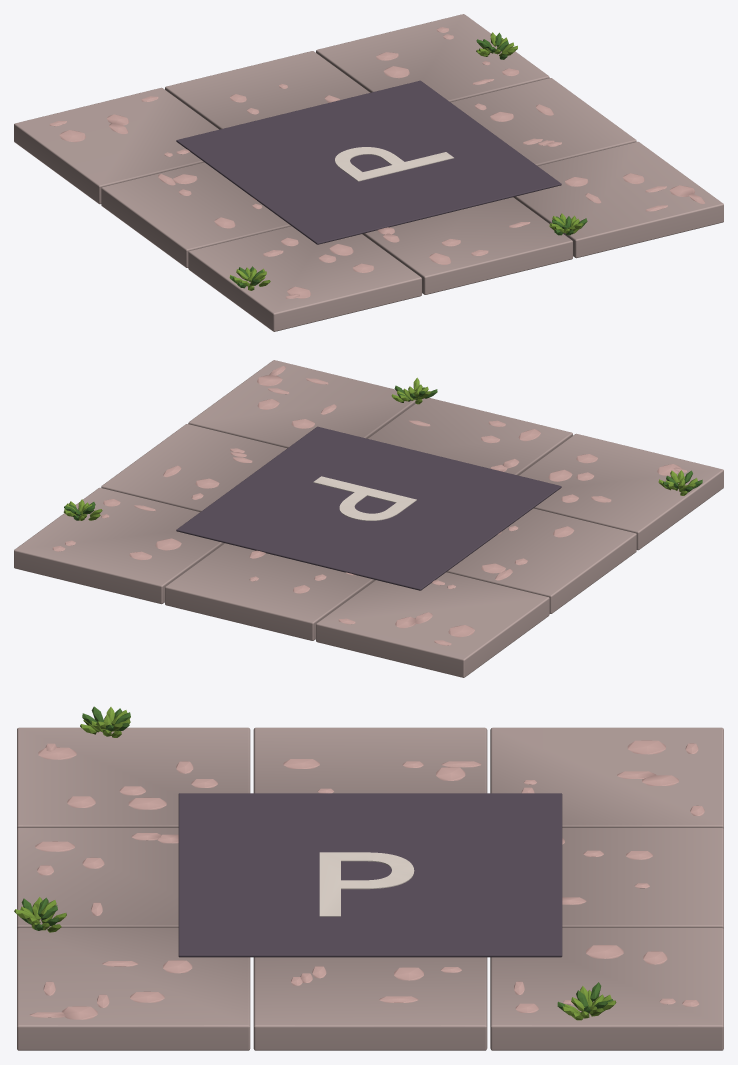
3 views of the same model, one above another, from view 1: azimuth 30°, elevation 25°; view 2: azimuth 150°, elevation 25°; view 3: azimuth 270°, elevation 25° (orthographic). The views are drawn at different scales.
Parts seen in each view (by area): view 1: root_pal_sidewalk, root_pal_asphalt, root_pal_pocketRose, root_pal_picketWhite, root_pal_foliage, root_pal_foliageDark; view 2: root_pal_sidewalk, root_pal_asphalt, root_pal_pocketRose, root_pal_picketWhite, root_pal_foliage, root_pal_foliageDark; view 3: root_pal_sidewalk, root_pal_asphalt, root_pal_pocketRose, root_pal_picketWhite, root_pal_foliage, root_pal_foliageDark.
Boxes of the visible parts, box(x1,y1,x2,y2) form: root_pal_sidewalk: box(14, 14, 723, 331); root_pal_asphalt: box(176, 80, 561, 244); root_pal_pocketRose: box(49, 27, 704, 298); root_pal_picketWhite: box(335, 147, 453, 181); root_pal_foliage: box(229, 32, 583, 290); root_pal_foliageDark: box(230, 32, 587, 288); root_pal_sidewalk: box(14, 360, 723, 677); root_pal_asphalt: box(176, 426, 561, 590); root_pal_pocketRose: box(52, 366, 687, 645); root_pal_picketWhite: box(313, 476, 416, 520); root_pal_foliage: box(63, 377, 697, 520); root_pal_foliageDark: box(64, 385, 702, 520); root_pal_sidewalk: box(17, 727, 723, 1050); root_pal_asphalt: box(178, 793, 562, 957); root_pal_pocketRose: box(29, 740, 704, 1019); root_pal_picketWhite: box(319, 852, 414, 916); root_pal_foliage: box(14, 707, 616, 1020); root_pal_foliageDark: box(21, 706, 613, 1013).
Bounding box in the file's own units: 3.03 × 0.2221 × 3.
